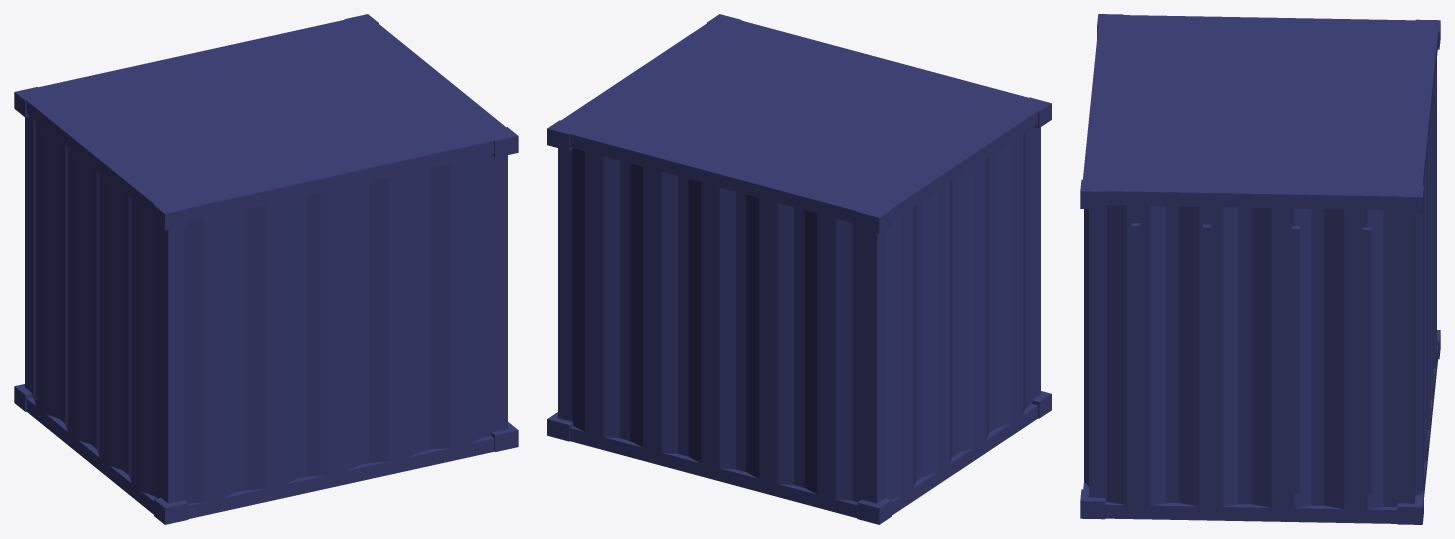
File: IndigoContainer.fbx
3 renders of one model, left to right at view 1: azimuth 30°, elevation 25°; view 2: azimuth 150°, elevation 25°; view 3: azimuth 270°, elevation 25°, orthographic. The views are drawn at different scales.
Visible parts, largest first — view 1: Container_LP_Indigo; view 2: Container_LP_Indigo; view 3: Container_LP_Indigo.
Boxes of the visible parts, x1,y1,x2,y2 form: Container_LP_Indigo: (14, 14, 518, 524); Container_LP_Indigo: (547, 14, 1051, 524); Container_LP_Indigo: (1080, 14, 1440, 524).
Bounding box in the file's own units: 313 × 259 × 258.
